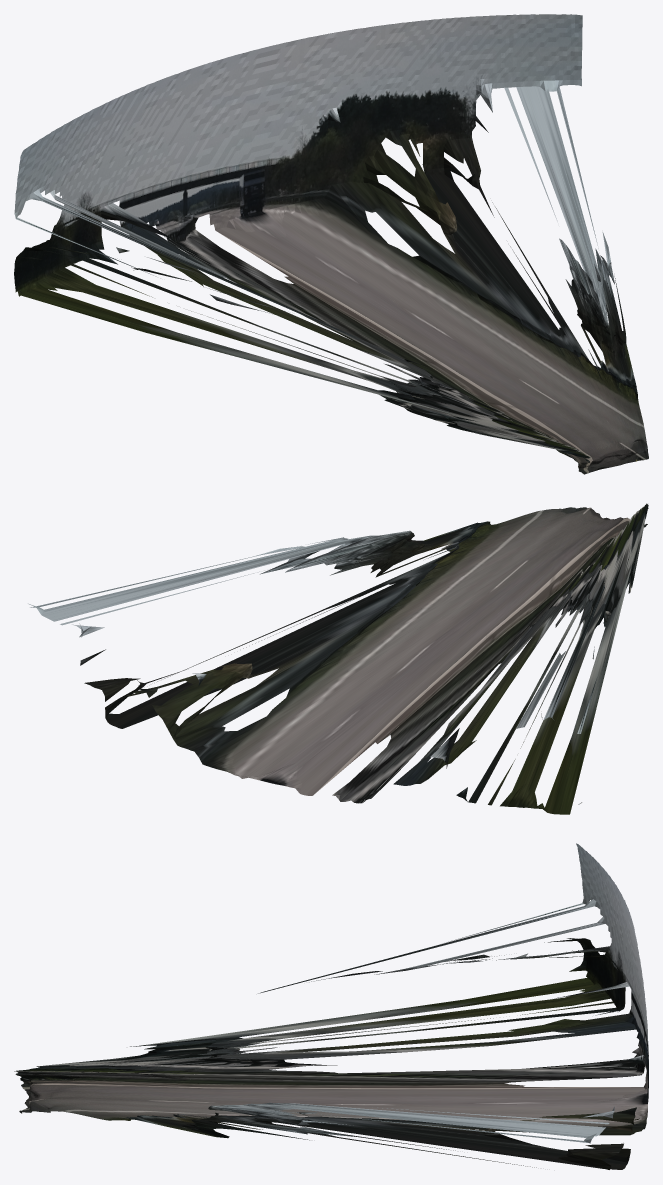
The picture shows the model from 3 angles, top to bottom: view 1: azimuth 30°, elevation 25°; view 2: azimuth 150°, elevation 25°; view 3: azimuth 270°, elevation 25°; orthographic projection. The views are drawn at different scales.
Parts seen in each view (by area): view 1: defaultobject; view 2: defaultobject; view 3: defaultobject.
Part boxes in pixels (box(x1,y1,x2,y2)): defaultobject: box(14, 14, 648, 474); defaultobject: box(28, 503, 648, 814); defaultobject: box(14, 843, 648, 1169).
Bounding box in the file's own units: 41.03 × 12.16 × 45.
1 material, 1 textured.
